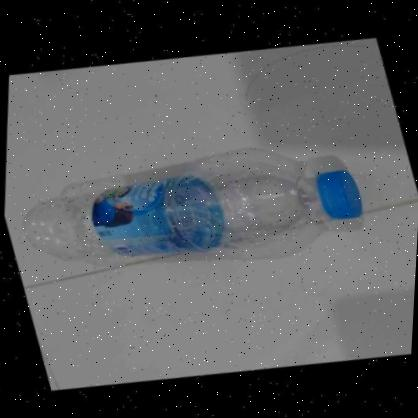bottle: (21, 150, 364, 278)
cap: (312, 170, 361, 220)
label: (92, 170, 226, 260)
